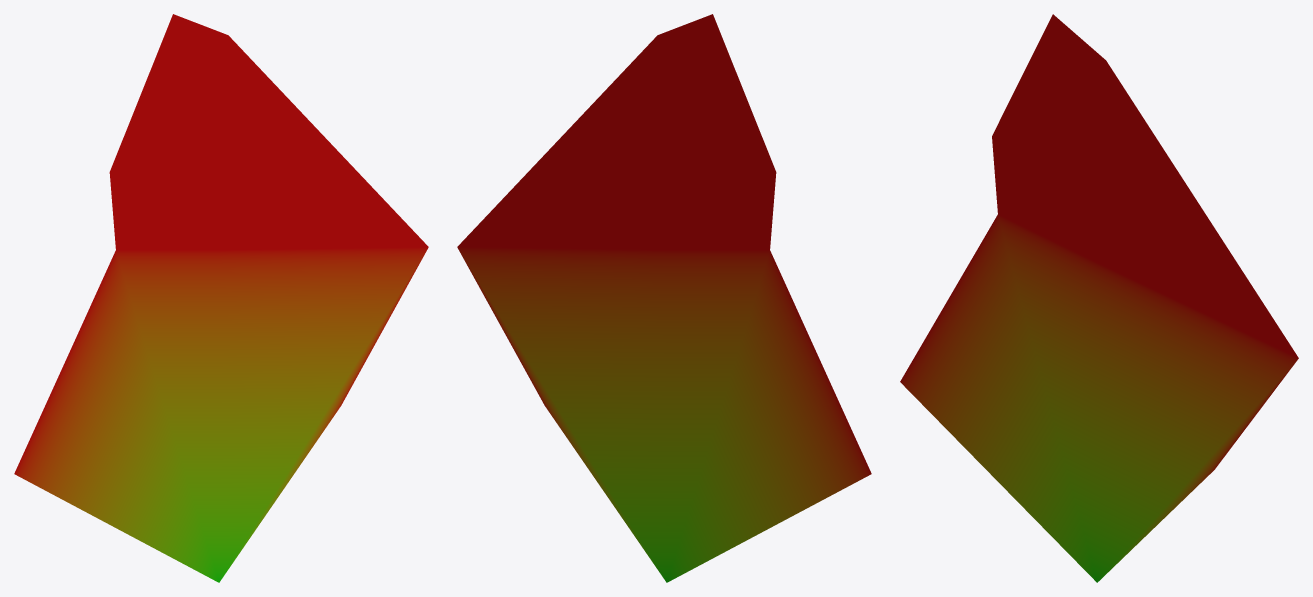
The model's file is Black Locust_LOD4_Var2.fbx.
3 views of the same model, side by side, from view 1: azimuth 30°, elevation 25°; view 2: azimuth 150°, elevation 25°; view 3: azimuth 330°, elevation 25° (orthographic). The views are drawn at different scales.
Parts seen in each view (by area): view 1: _9twf_Var2_LOD4; view 2: _9twf_Var2_LOD4; view 3: _9twf_Var2_LOD4.
Part boxes in pixels (x1,y1,x2,y2): _9twf_Var2_LOD4: [14, 14, 428, 582]; _9twf_Var2_LOD4: [457, 14, 871, 582]; _9twf_Var2_LOD4: [900, 14, 1298, 582].
Size of the model in its own units: 37.81 by 50.55 by 1.24e-10.
